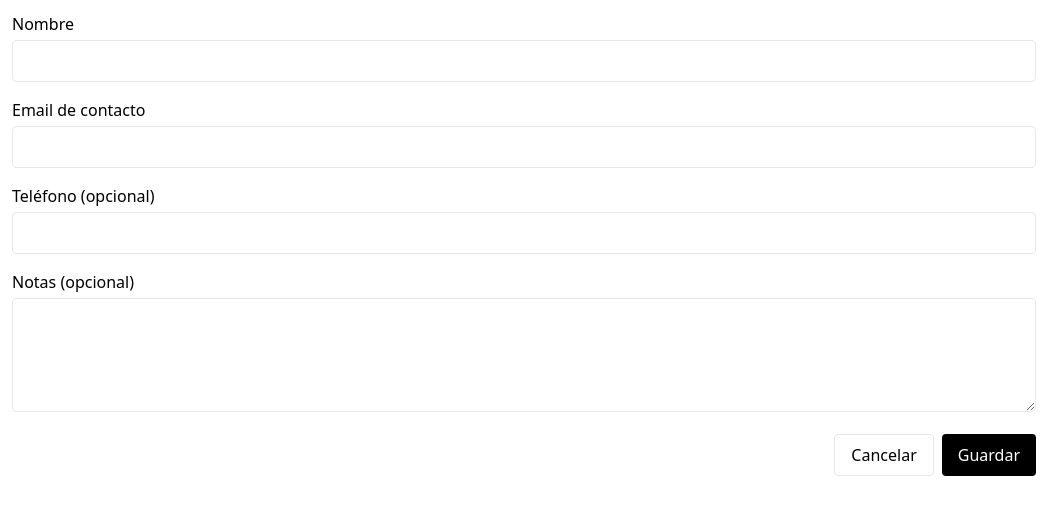
ClienteForm › shows phone format error for letters
Type "X" into the field labelled "Nombre" at (524, 61), box left=12, top=40, right=1036, bottom=82
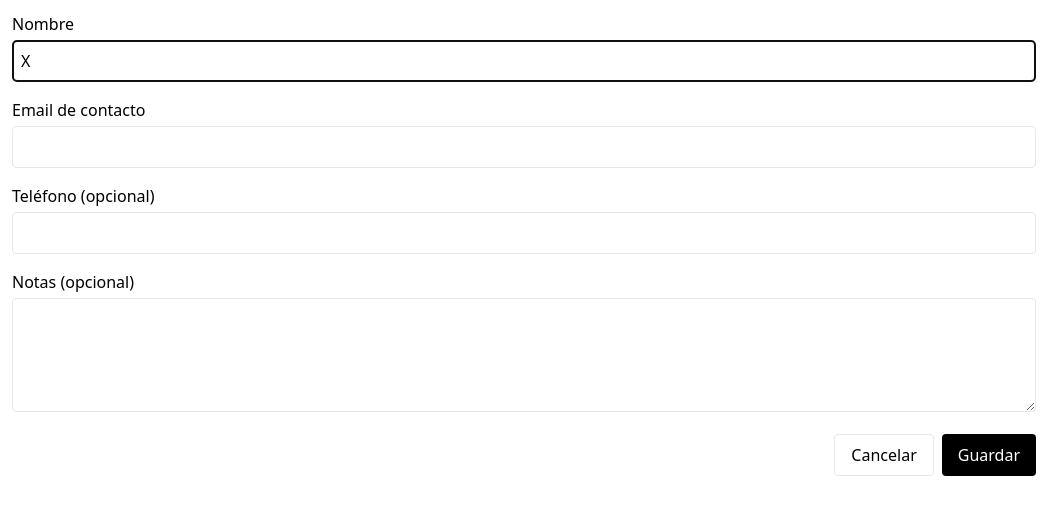
Type "x@y.com" into the field labelled "Email de contacto" at (524, 147), box left=12, top=126, right=1036, bottom=168
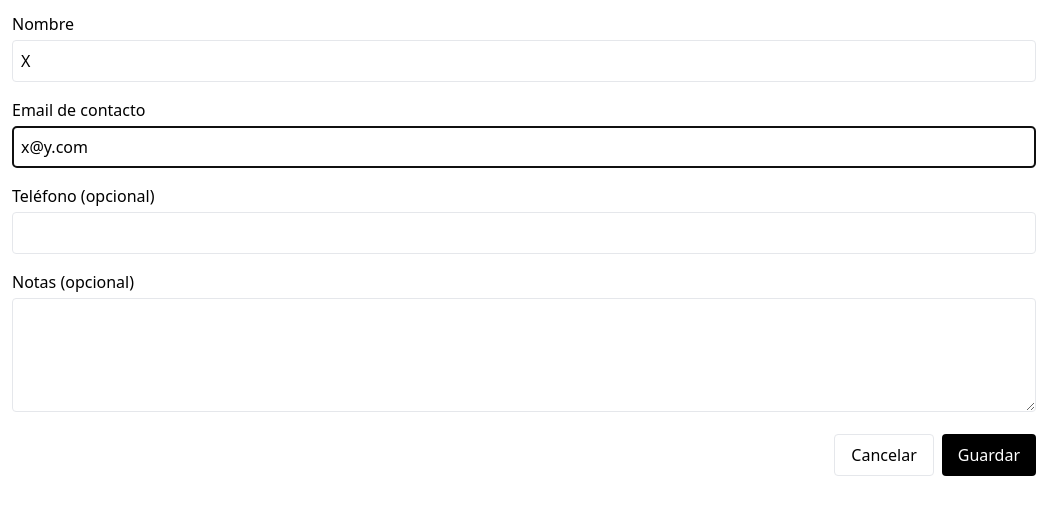
Type "abc" into the field labelled "Teléfono (opcional)" at (524, 233), box left=12, top=212, right=1036, bottom=254
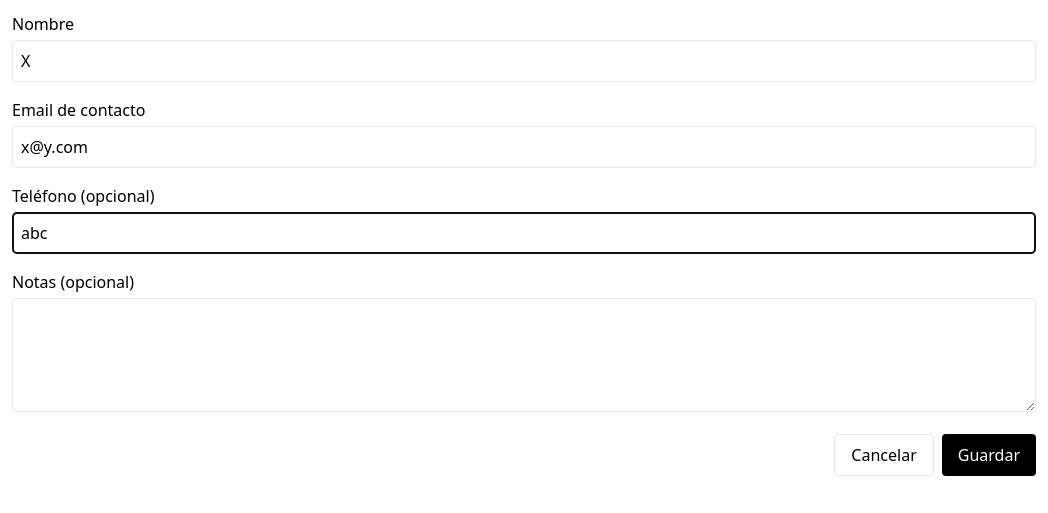
Click the button "Guardar" at (989, 455), box left=942, top=434, right=1036, bottom=476
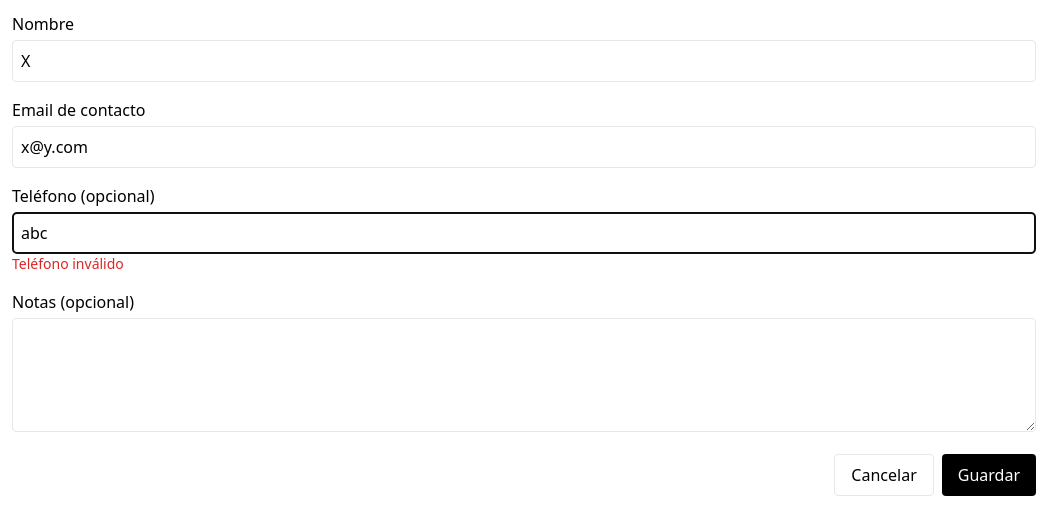
Expected: the text "Teléfono inválido" is shown, left=12, top=254, right=124, bottom=273
